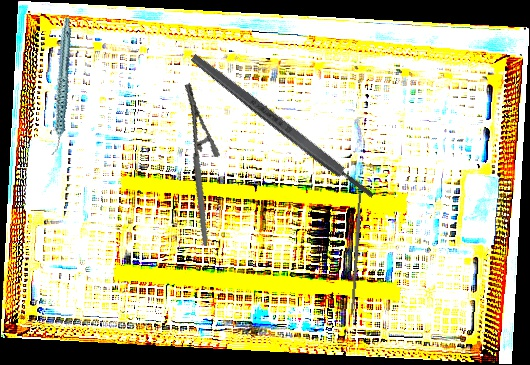Handpiece: (22, 16, 100, 158)
Needle Holder: (150, 81, 242, 247)
Scalpel Handle: (189, 51, 377, 202), (349, 191, 364, 316)
